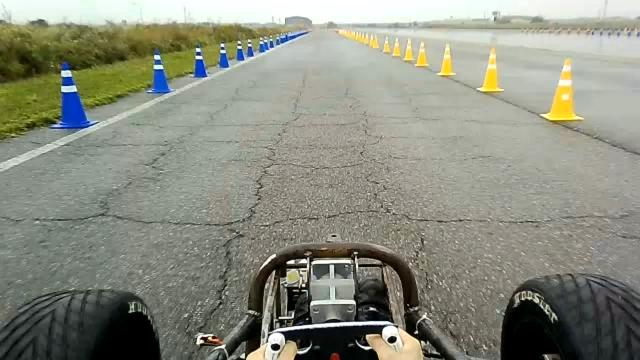blue cone: (49, 61, 98, 129), (146, 48, 175, 94), (190, 44, 210, 78), (216, 42, 230, 68), (235, 40, 245, 61), (246, 38, 254, 57), (258, 36, 266, 53)
yellow cone: (540, 57, 584, 122), (476, 47, 504, 92), (436, 43, 456, 76), (414, 41, 428, 66), (404, 38, 414, 62), (392, 37, 401, 57), (382, 36, 390, 52), (371, 33, 379, 48)
